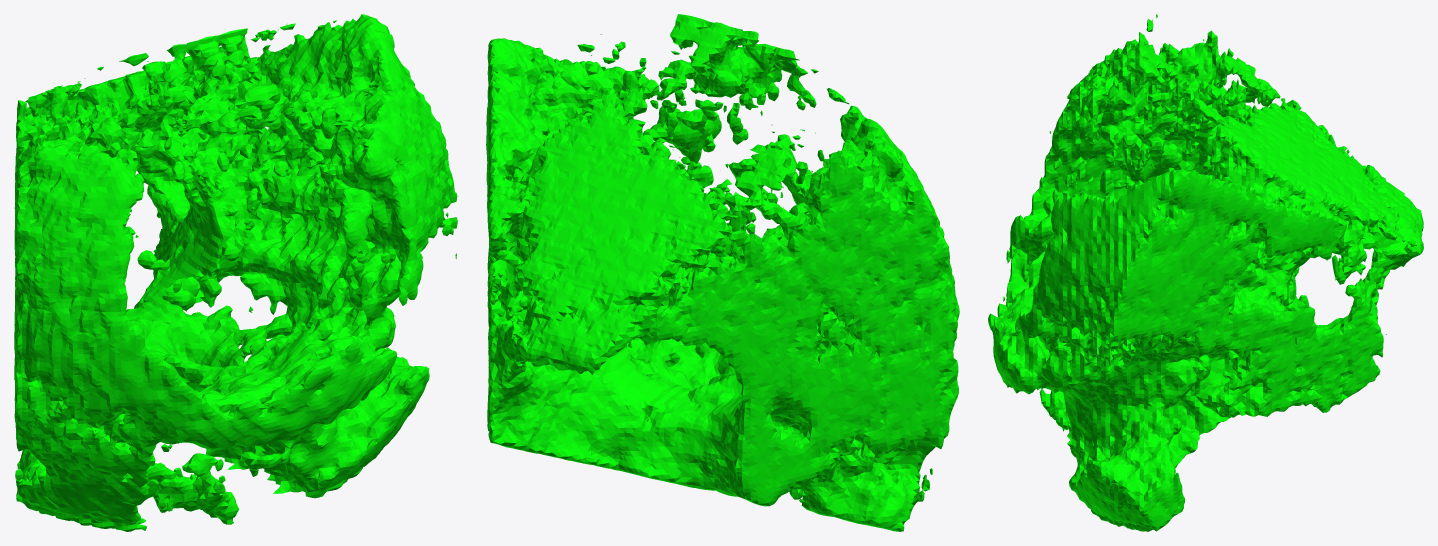
Rendered from B939XXXX-1_base_0.obj.
3 views of the same model, side by side, from view 1: azimuth 30°, elevation 25°; view 2: azimuth 150°, elevation 25°; view 3: azimuth 270°, elevation 25° (orthographic). The views are drawn at different scales.
Visible parts, largest first — view 1: B939XXXX-10; view 2: B939XXXX-10; view 3: B939XXXX-10.
Part boxes in pixels (box(x1,y1,x2,y2)): B939XXXX-10: box(14, 14, 457, 531); B939XXXX-10: box(486, 14, 959, 531); B939XXXX-10: box(988, 14, 1423, 531).
Size of the model in its own units: 219 by 219 by 205.
